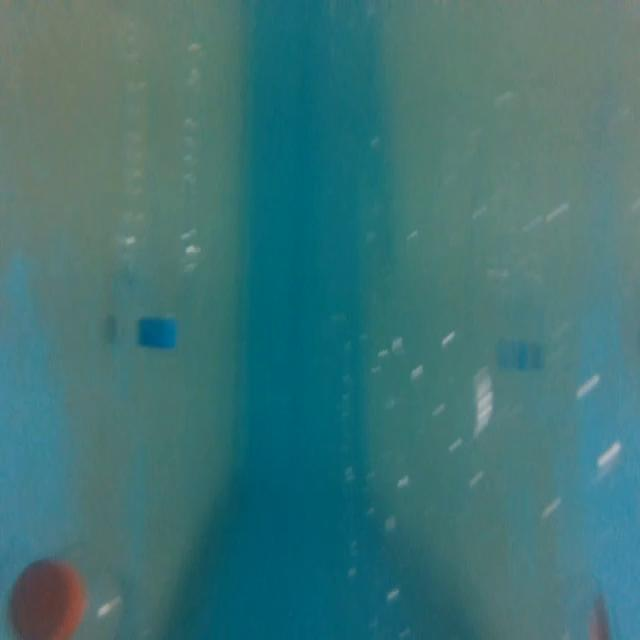plastic bottle: (100, 20, 211, 345), (7, 529, 158, 640)
